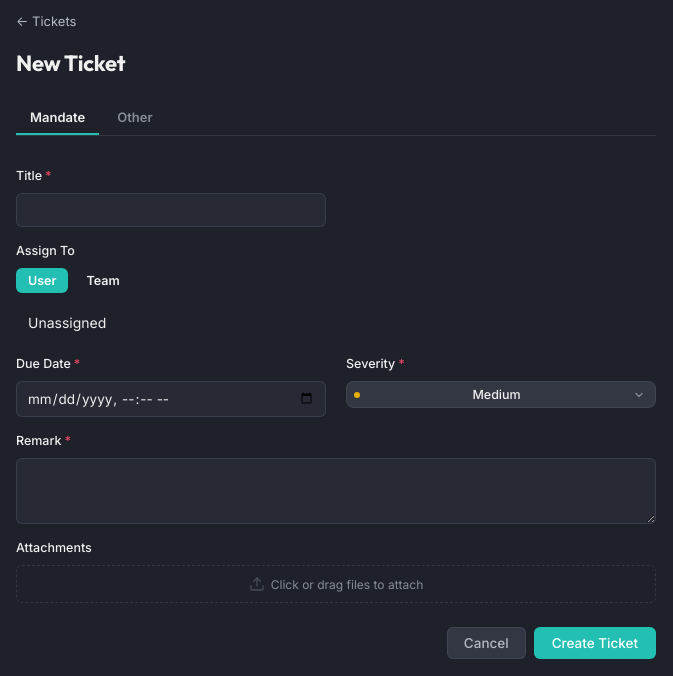
CustomerRecordCreate — Mandate/Other tabs › never shows team_id in the Other tab, even though it's a real optional field
Check: the button "Mandate" is shown, box [16, 101, 99, 135]
Click the button "Other" at {"x": 135, "y": 118}, box [103, 101, 166, 135]
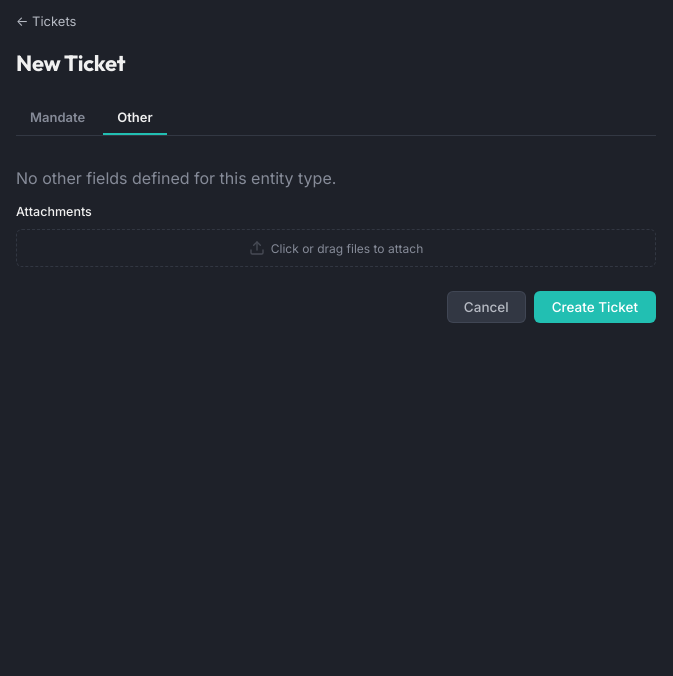
Check: the text "No other fields defined for this entity type." is shown, box [16, 168, 336, 188]
